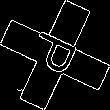P_SE: (24, 28, 86, 82)
